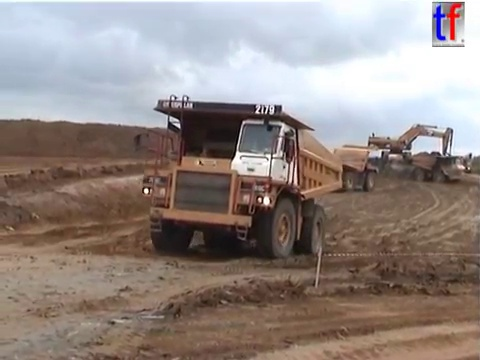excavator: (366, 122, 454, 168), (446, 152, 474, 174)
truck: (132, 93, 345, 260), (308, 146, 381, 194), (406, 152, 464, 184)
